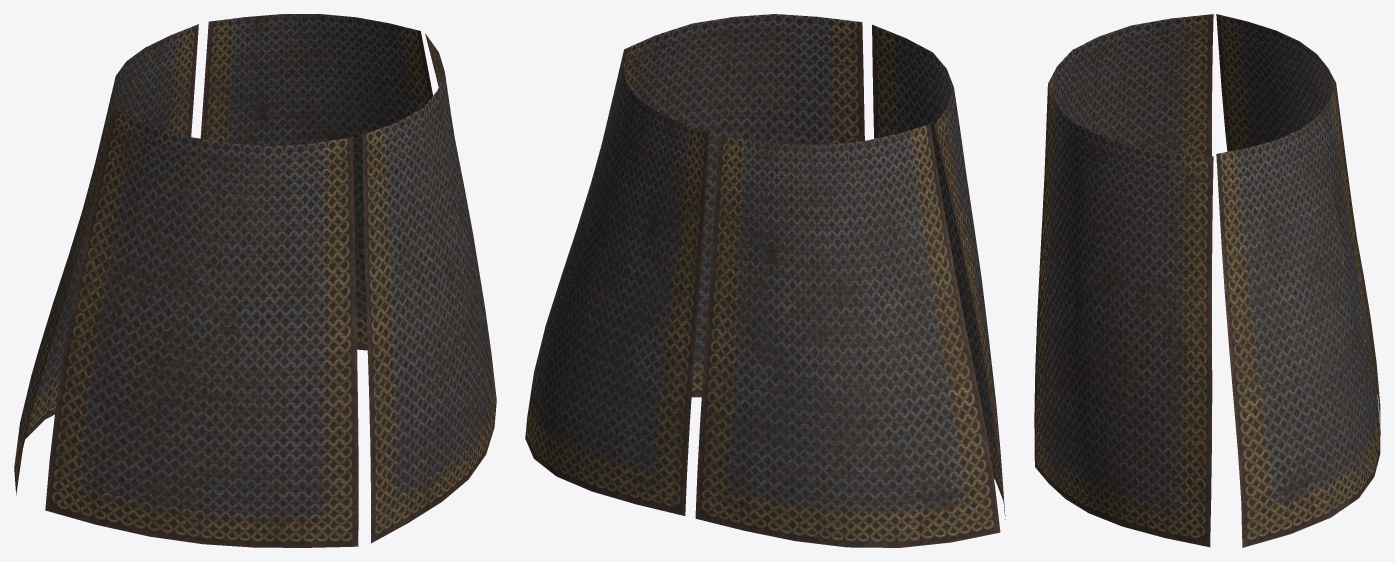
The model's file is clo_sk_dwarf_dain_chest_c.fbx.
3 views of the same model, side by side, from view 1: azimuth 30°, elevation 25°; view 2: azimuth 150°, elevation 25°; view 3: azimuth 270°, elevation 25° (orthographic). The views are drawn at different scales.
Visible parts, largest first — view 1: clo_sk_dwarf_dain_chest_c; view 2: clo_sk_dwarf_dain_chest_c; view 3: clo_sk_dwarf_dain_chest_c.
Boxes of the visible parts, box(x1,y1,x2,y2) form: clo_sk_dwarf_dain_chest_c: box(14, 14, 496, 547); clo_sk_dwarf_dain_chest_c: box(525, 14, 1005, 547); clo_sk_dwarf_dain_chest_c: box(1034, 14, 1380, 547).
Size of the model in its own units: 0.6049 by 0.4073 by 0.4935.
1 material, 1 textured.
